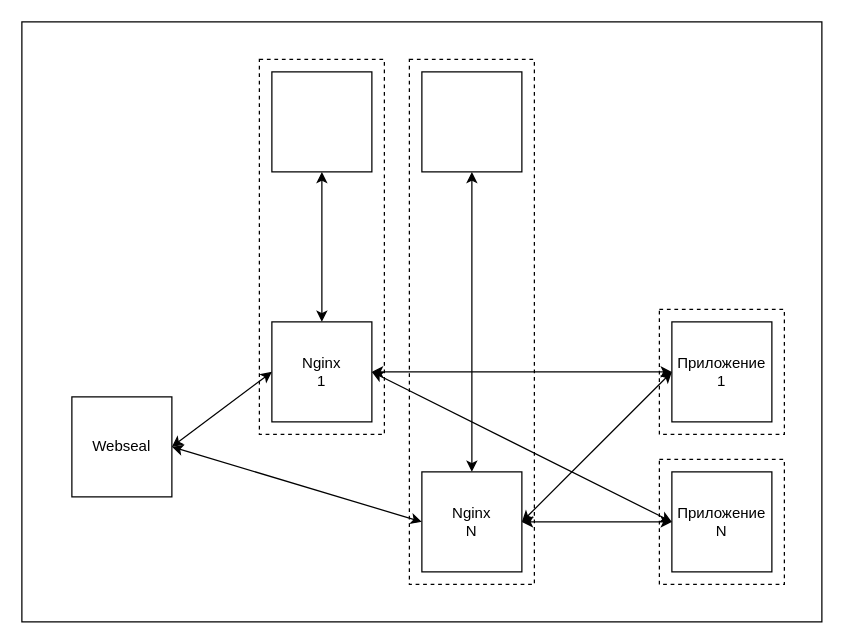
Some shapes in this 844 by 644 pixel diagram are drawn without their labels. Here are the shapes that lost their labels. From the top down, the centre of each, then its label:
the point at 321,121: СППП 1
the point at 471,121: СППП N
